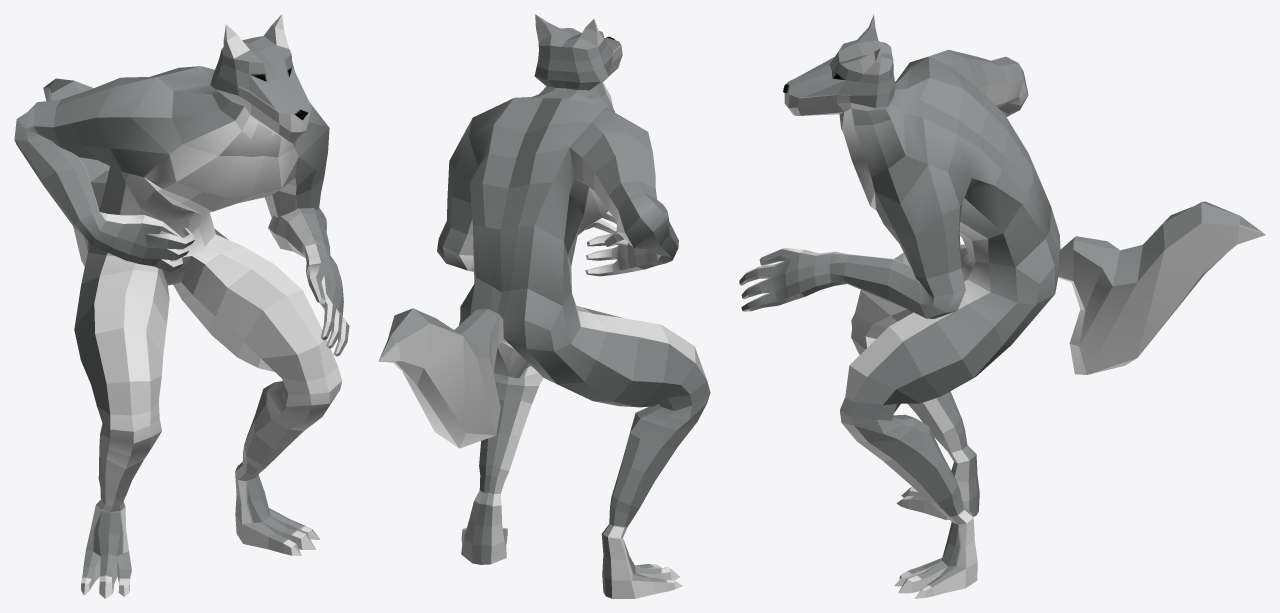
File: WolfIdle_(99).obj
3 views of the same model, side by side, from view 1: azimuth 30°, elevation 25°; view 2: azimuth 150°, elevation 25°; view 3: azimuth 270°, elevation 25° (orthographic). The views are drawn at different scales.
Parts seen in each view (by area): view 1: Box001; view 2: Box001; view 3: Box001.
Boxes of the visible parts, bbox=[...] form: Box001: bbox=[14, 14, 349, 598]; Box001: bbox=[378, 14, 710, 598]; Box001: bbox=[739, 14, 1265, 598].
Size of the model in its own units: 67.65 by 132 by 118.
